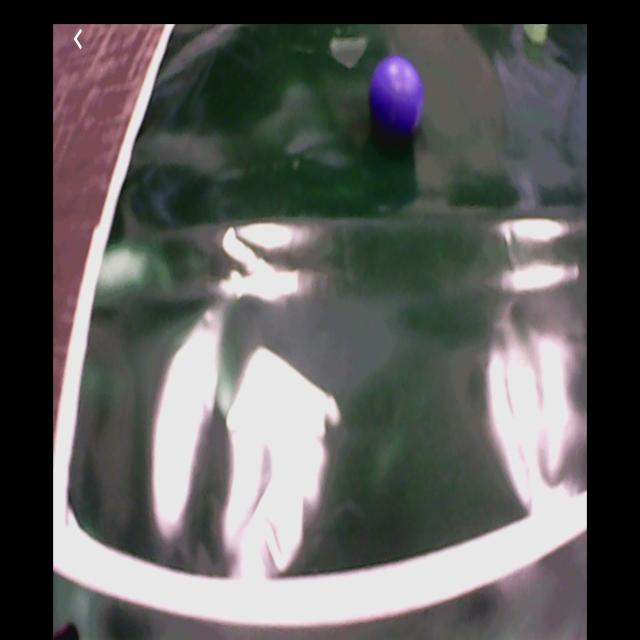ball: (370, 58, 424, 140)
